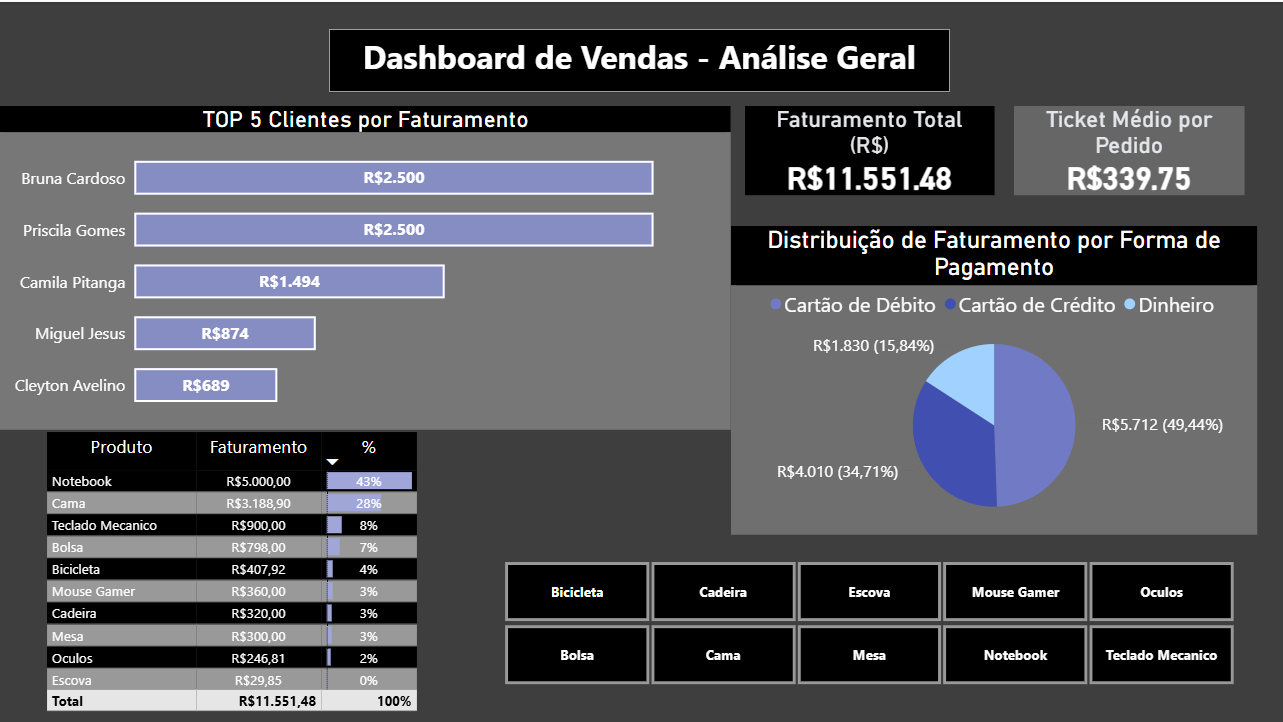

This screenshot's page, from the dashboard's own definition file:
{"tool":"powerbi","page":{"name":"Página 1","canvas":[1280,720],"ordinal":0},"visuals":[{"type":"pieChart","title":"Distribuição de Faturamento por Forma de Pagamento","fields":{"Y":["Sum(Consulta1.valor_pedido)"],"Category":["Consulta1.tipo_pagamento"]},"box":[729.4,223,525,307.8],"z":0},{"type":"card","title":"Faturamento Total (R$)","fields":{"Values":["Sum(Consulta1.valor_pedido)"]},"box":[743.4,103.4,248.6,89.4],"z":1000},{"type":"card","title":"Ticket Médio por Pedido","fields":{"Values":["Avg(Consulta1.valor_pedido)"]},"box":[1011.7,103.4,230,89.4],"z":2000},{"type":"clusteredBarChart","title":"TOP 5 Clientes por Faturamento","fields":{"Category":["Consulta1.cliente"],"Y":["Sum(Consulta1.valor_pedido)"]},"box":[0,103.4,729.4,322.9],"z":3000},{"type":"textbox","box":[328.7,26.7,619.1,62.7],"z":4000},{"type":"tableEx","fields":{"Values":["Consulta1.nome","Sum(Consulta1.valor_pedido)","Avg(Consulta1.valor_pedido)"]},"box":[25.6,418.1,426.3,302],"z":5000},{"type":"slicer","fields":{"Values":["Consulta1.nome"]},"box":[477.4,551.7,777.1,135.9],"z":6000}]}

Visuals, with their boxes in screenshot pixels (x1, y1, x2, y2), scaled from the page's 1280x720 canvas onto the 1283x722 screenshot:
"Distribuição de Faturamento por Forma de Pagamento" pieChart: rect(731, 224, 1257, 532)
"Faturamento Total (R$)" card: rect(745, 104, 994, 193)
"Ticket Médio por Pedido" card: rect(1014, 104, 1245, 193)
"TOP 5 Clientes por Faturamento" clusteredBarChart: rect(0, 104, 731, 427)
textbox: rect(329, 27, 950, 90)
tableEx - Consulta1.nome x Sum(Consulta1.valor_pedido): rect(26, 419, 453, 721)
slicer - Consulta1.nome: rect(479, 553, 1257, 690)
